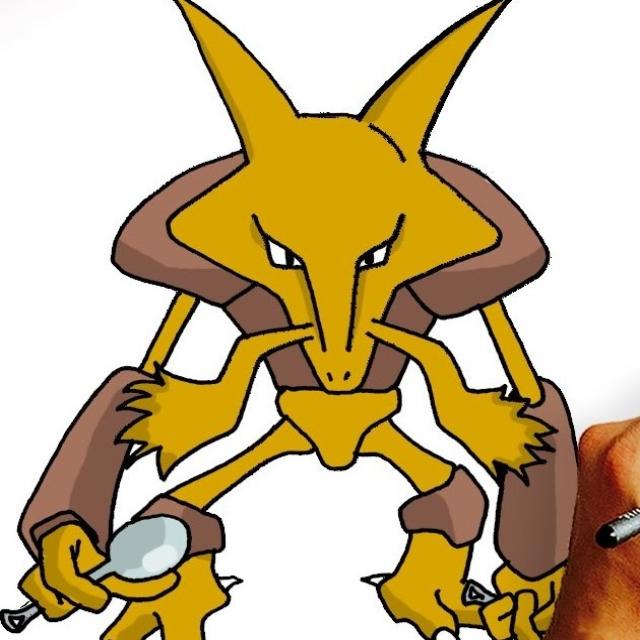Alakazam: (72, 58, 518, 640)
